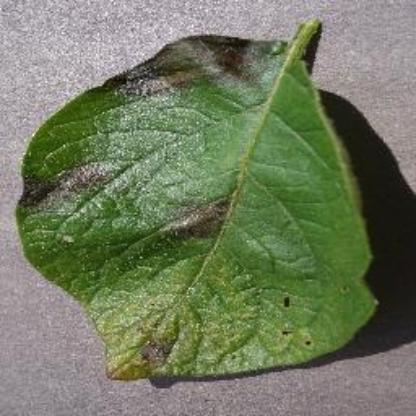Late-Blight: (11, 43, 393, 385)
